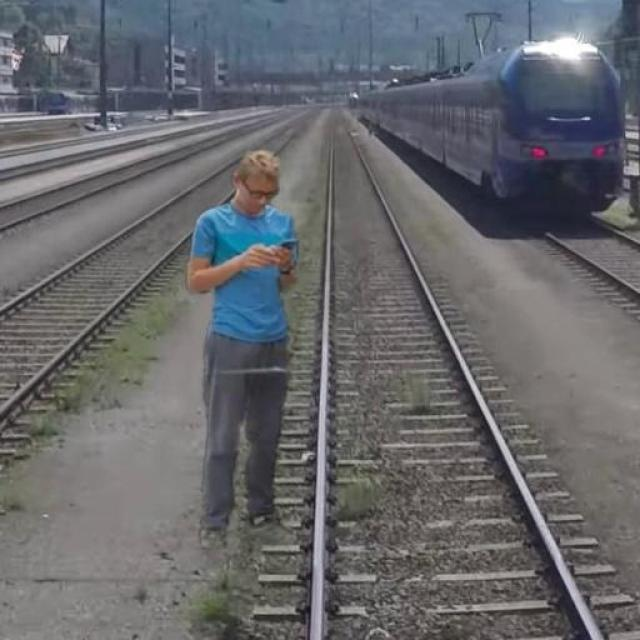people: (186, 147, 310, 557)
